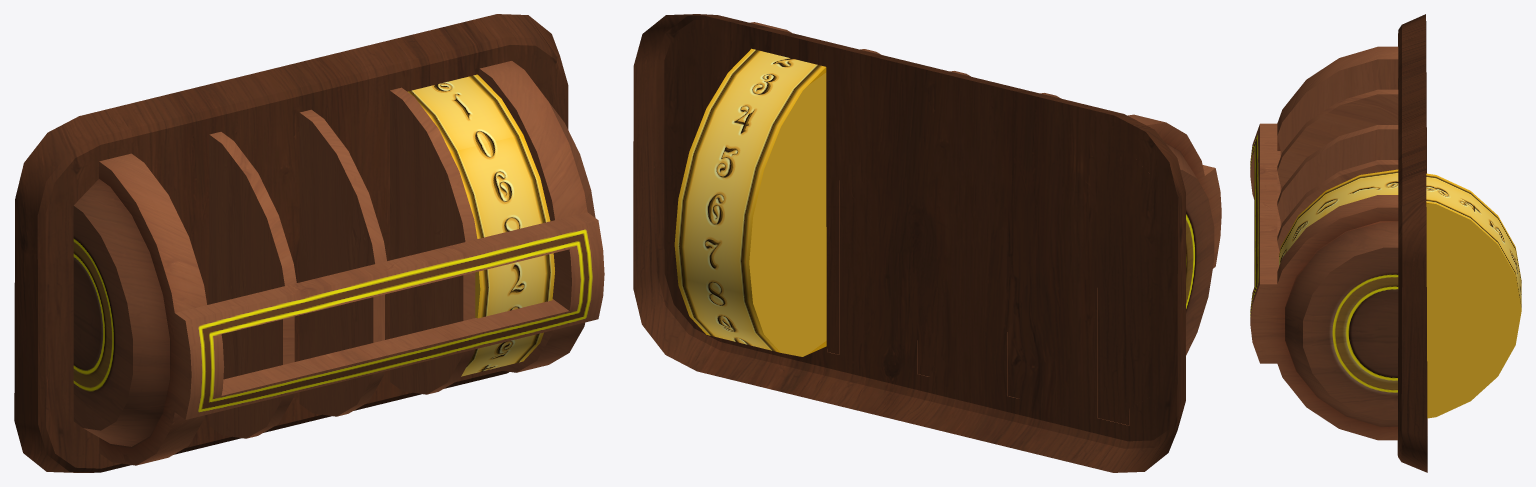
File: Lock.fbx
The picture shows the model from 3 angles, left to right: view 1: azimuth 30°, elevation 25°; view 2: azimuth 150°, elevation 25°; view 3: azimuth 270°, elevation 25°; orthographic projection. The views are drawn at different scales.
Parts seen in each view (by area): view 1: Lock_Box, Lock_Cylinder1; view 2: Lock_Box, Lock_Cylinder1; view 3: Lock_Box, Lock_Cylinder1.
Boxes of the visible parts, <box> form: Lock_Box: <box>14,14,604,472</box>; Lock_Cylinder1: <box>407,74,554,376</box>; Lock_Box: <box>633,14,1221,472</box>; Lock_Cylinder1: <box>674,48,826,356</box>; Lock_Box: <box>1250,14,1427,472</box>; Lock_Cylinder1: <box>1279,169,1521,418</box>.
Bounding box in the file's own units: 53.88 × 33.75 × 29.07.
